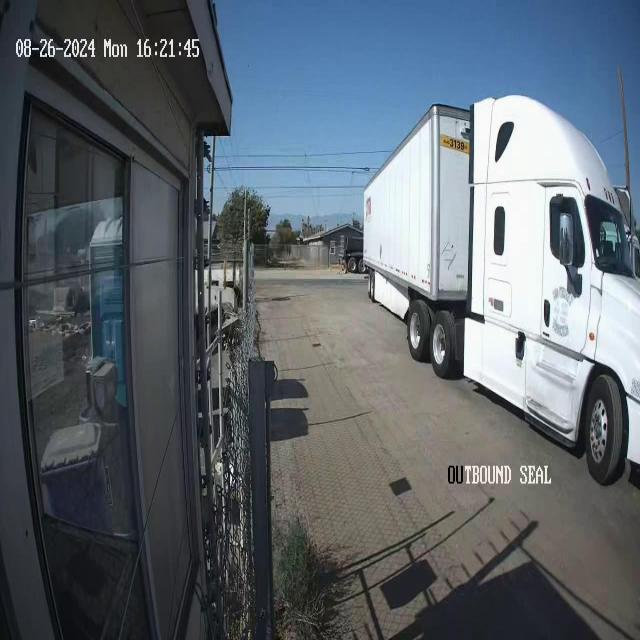CONTAINER: (362, 103, 472, 304)
